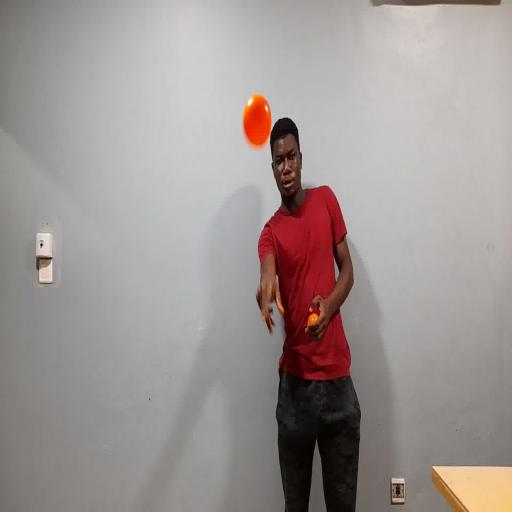plastic-ball: (227, 84, 281, 162)
